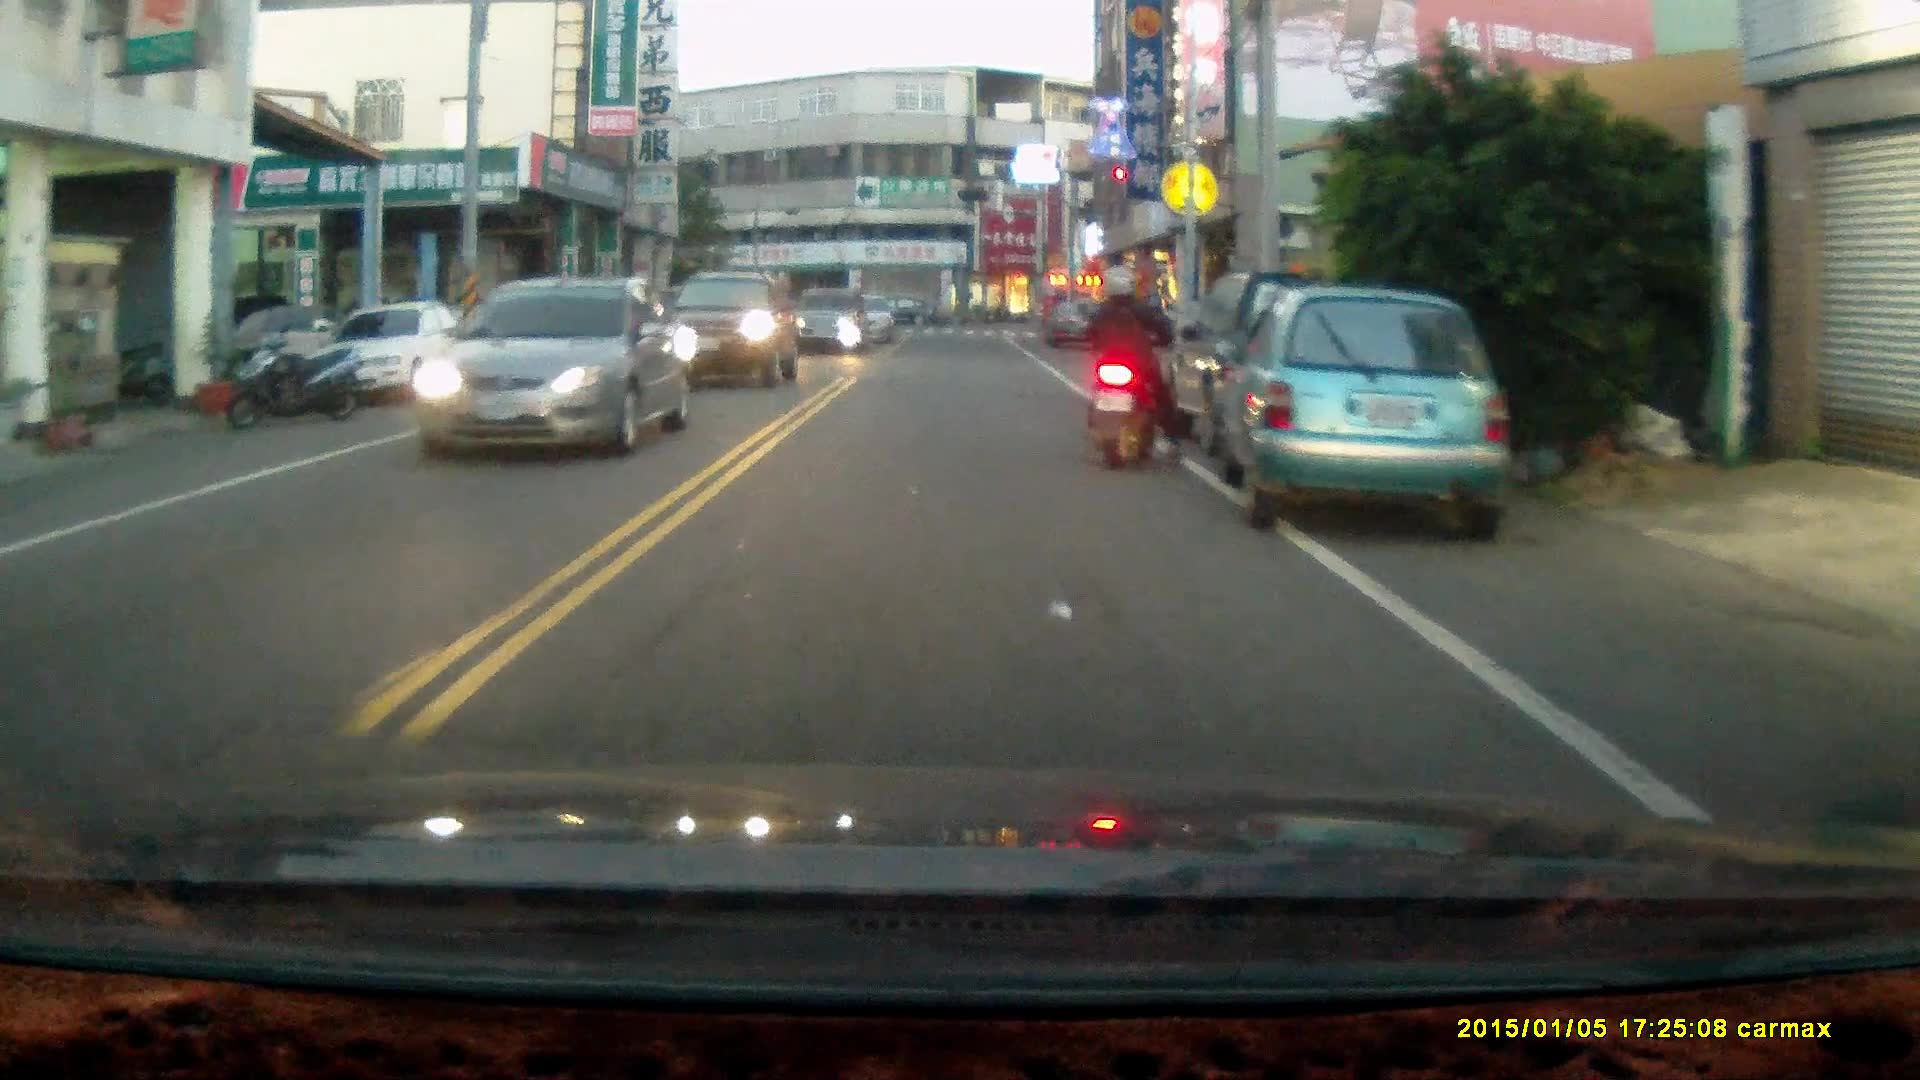rider: (1083, 263, 1185, 468)
vehicle: (1215, 285, 1523, 542), (1149, 269, 1422, 462), (411, 281, 692, 461), (297, 302, 497, 402), (661, 272, 804, 393), (786, 289, 871, 355)
